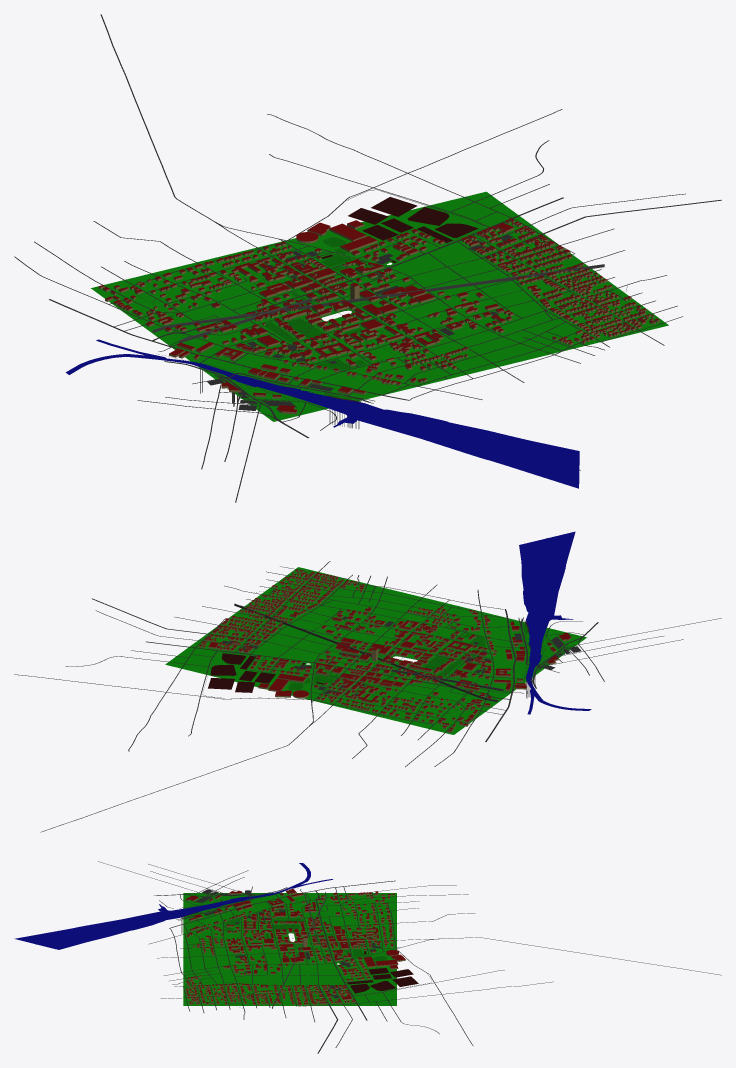
The model's file is map.obj.
3 views of the same model, one above another, from view 1: azimuth 30°, elevation 25°; view 2: azimuth 150°, elevation 25°; view 3: azimuth 270°, elevation 25° (orthographic). The views are drawn at different scales.
Visible parts, largest first — view 1: Water Providence River, SurfaceArea2340, SurfaceArea2342, SurfaceArea2336, SurfaceArea2341, SurfaceArea2332, SurfaceArea2331, SurfaceArea2347, SurfaceArea2330, SurfaceArea2335, SurfaceArea2329, SurfaceArea2344 (+11 smaller); view 2: Water Providence River, SurfaceArea2340, SurfaceArea2342, SurfaceArea2336, SurfaceArea2341, SurfaceArea2331, SurfaceArea2332, SurfaceArea2347, SurfaceArea2330, SurfaceArea2335, SurfaceArea2329, SurfaceArea2345 (+11 smaller); view 3: Water Providence River, SurfaceArea2340, SurfaceArea2342, SurfaceArea2341, SurfaceArea2336, SurfaceArea2331, SurfaceArea2332, SurfaceArea2335, SurfaceArea2330, SurfaceArea2345, SurfaceArea2344, SurfaceArea2347 (+10 smaller).
Boxes of the visible parts, x1,y1,x2,y2 form: Water Providence River: [66, 339, 579, 488]; SurfaceArea2340: [465, 311, 589, 363]; SurfaceArea2342: [376, 244, 498, 294]; SurfaceArea2336: [386, 330, 510, 383]; SurfaceArea2341: [426, 278, 543, 330]; SurfaceArea2332: [307, 350, 431, 400]; SurfaceArea2331: [91, 269, 214, 321]; SurfaceArea2347: [408, 191, 531, 244]; SurfaceArea2330: [137, 302, 260, 352]; SurfaceArea2335: [170, 249, 293, 302]; SurfaceArea2329: [185, 336, 306, 386]; SurfaceArea2344: [546, 292, 668, 344]; Water Providence River: [519, 531, 591, 714]; SurfaceArea2340: [323, 581, 413, 619]; SurfaceArea2342: [256, 630, 340, 667]; SurfaceArea2336: [381, 595, 471, 633]; SurfaceArea2341: [290, 606, 379, 642]; SurfaceArea2331: [396, 696, 486, 734]; SurfaceArea2332: [439, 609, 525, 647]; SurfaceArea2347: [165, 640, 255, 678]; SurfaceArea2330: [430, 672, 516, 710]; SurfaceArea2335: [338, 682, 428, 720]; SurfaceArea2329: [463, 648, 549, 684]; SurfaceArea2345: [232, 591, 321, 629]; Water Providence River: [14, 863, 332, 949]; SurfaceArea2340: [183, 960, 236, 983]; SurfaceArea2342: [290, 960, 343, 983]; SurfaceArea2341: [236, 960, 289, 984]; SurfaceArea2336: [183, 938, 236, 960]; SurfaceArea2331: [343, 893, 396, 915]; SurfaceArea2332: [183, 915, 236, 938]; SurfaceArea2335: [343, 915, 396, 938]; SurfaceArea2330: [290, 893, 343, 915]; SurfaceArea2345: [236, 983, 289, 1005]; SurfaceArea2344: [183, 983, 236, 1005]; SurfaceArea2347: [343, 983, 396, 1005].
Bounding box in the file's own units: 2559 × 155 × 3977.
